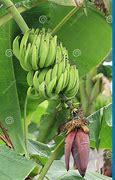banana: (14, 25, 82, 102)
